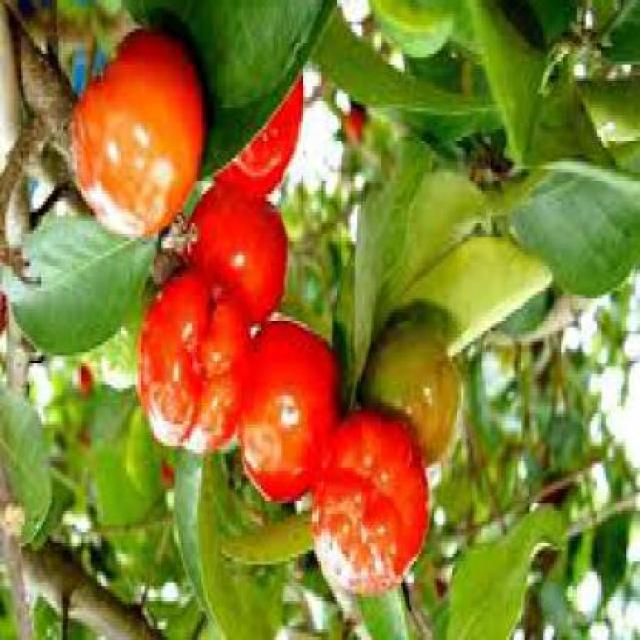BIODEGRADABLE: (71, 29, 206, 236), (312, 410, 429, 594), (138, 270, 249, 452), (239, 318, 338, 501), (189, 185, 288, 321), (366, 328, 459, 463), (215, 75, 302, 197), (342, 104, 366, 146), (78, 364, 94, 396), (162, 463, 176, 485)
